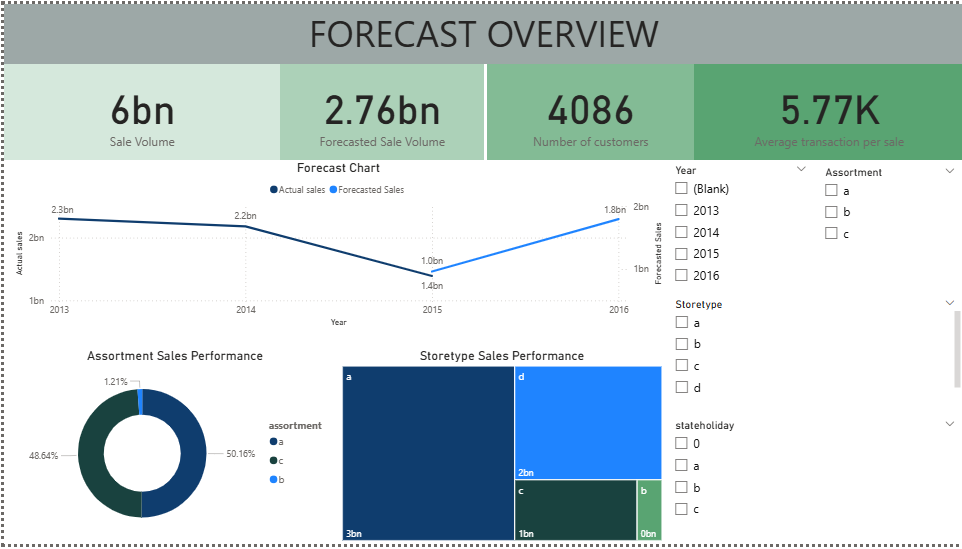

The page's visual inventory and layout, read from the dashboard file:
{"tool":"powerbi","page":{"name":"Page 1","canvas":[1280,720],"ordinal":0},"visuals":[{"type":"textbox","box":[0,0,1280,80],"z":0},{"type":"lineChart","title":"Forecast Chart","fields":{"Category":["Dates.Year","Dates.Month"],"Y":["Sum(Sales.sales)"],"Y2":["Sum(Sales forecast.forecasted_sales)"]},"box":[10,208,872,226],"z":1000},{"type":"treemap","title":"Storetype Sales Performance","fields":{"Group":["Stores.storetype"],"Values":["Sum(Sales.sales)"]},"box":[446,458,436,262],"z":2000},{"type":"donutChart","title":"Assortment Sales Performance","fields":{"Category":["Stores.assortment"],"Y":["Sum(Sales.sales)"]},"box":[10,458,436,262],"z":3000},{"type":"card","fields":{"Values":["Sum(Sales.sales)"]},"box":[0,80,368,128],"z":4000},{"type":"card","fields":{"Values":["Sum(Sales forecast.forecasted_sales)"]},"box":[368,80,272,128],"z":5000},{"type":"card","fields":{"Values":["Count(Sales.customers)"]},"box":[644,80,276,128],"z":6000},{"type":"card","fields":{"Values":["Avg(Sales.sales)"]},"box":[920,80,360,128],"z":7000},{"type":"slicer","fields":{"Values":["Dates.Year"]},"box":[882,208,200,174],"z":8000},{"type":"slicer","fields":{"Values":["Stores.assortment"]},"box":[1082,210,198,172],"z":9000},{"type":"slicer","fields":{"Values":["Stores.storetype"]},"box":[882,386,398,142],"z":10000},{"type":"slicer","fields":{"Values":["Sales.stateholiday"]},"box":[882,548,398,172],"z":10001}]}

Visuals, with their boxes in screenshot pixels (x1, y1, x2, y2), scaled from the page's 1280x720 canvas onto the 962x549 screenshot:
textbox: Rect(0, 0, 961, 61)
"Forecast Chart" lineChart: Rect(8, 159, 663, 331)
"Storetype Sales Performance" treemap: Rect(335, 349, 663, 548)
"Assortment Sales Performance" donutChart: Rect(8, 349, 335, 548)
card - Sum(Sales.sales): Rect(0, 61, 277, 159)
card - Sum(Sales forecast.forecasted_sales): Rect(277, 61, 481, 159)
card - Count(Sales.customers): Rect(484, 61, 691, 159)
card - Avg(Sales.sales): Rect(691, 61, 961, 159)
slicer - Dates.Year: Rect(663, 159, 813, 291)
slicer - Stores.assortment: Rect(813, 160, 961, 291)
slicer - Stores.storetype: Rect(663, 294, 961, 403)
slicer - Sales.stateholiday: Rect(663, 418, 961, 548)
